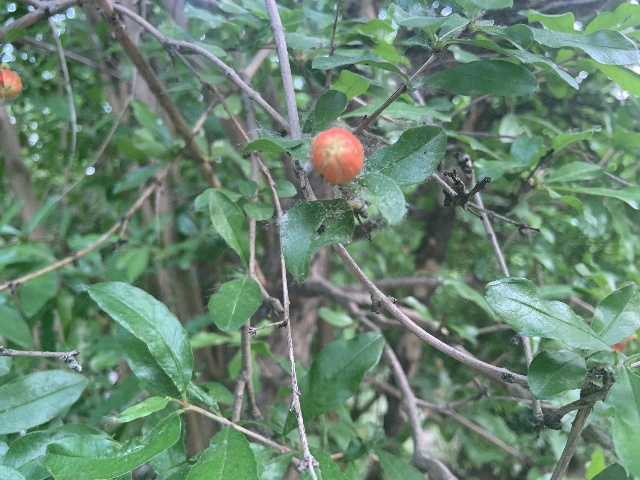bud: (310, 127, 363, 185), (0, 67, 21, 98)
